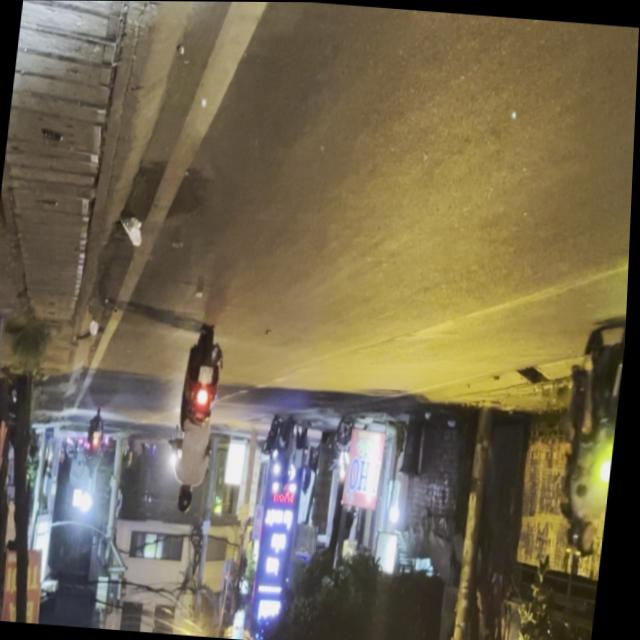helmet: (579, 517, 605, 558)
licenseplate: (553, 310, 629, 562)
